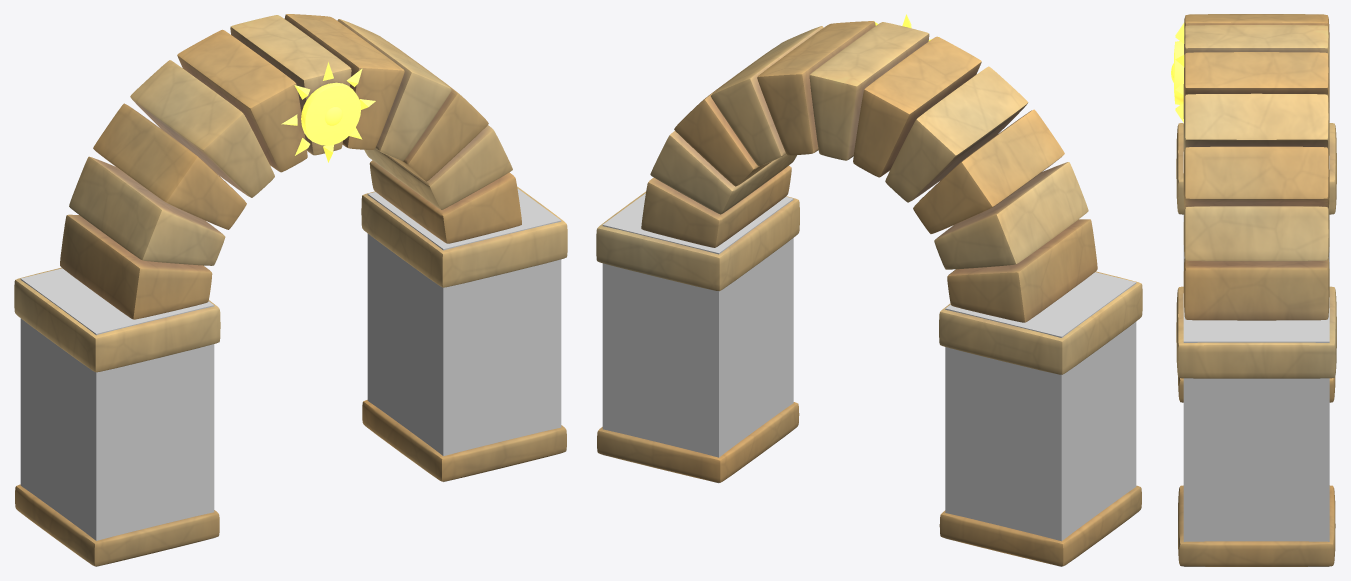
The model's file is SD_P05_SunArch.fbx.
3 views of the same model, side by side, from view 1: azimuth 30°, elevation 25°; view 2: azimuth 150°, elevation 25°; view 3: azimuth 270°, elevation 25° (orthographic). The views are drawn at different scales.
Parts seen in each view (by area): view 1: Arch_LOD0, COL_Pillar_L, COL_Pillar_R, Pillar_R_LOD0, Pillar_L_LOD0, Emblem; view 2: Arch_LOD0, COL_Pillar_L, COL_Pillar_R, Pillar_R_LOD0, Pillar_L_LOD0; view 3: Arch_LOD0, COL_Pillar_R, Pillar_R_LOD0, Pillar_L_LOD0, Emblem.
Boxes of the visible parts, x1,y1,x2,y2 form: Arch_LOD0: (60, 14, 521, 319); COL_Pillar_L: (20, 268, 214, 566); COL_Pillar_R: (367, 189, 561, 482); Pillar_R_LOD0: (361, 187, 567, 481); Pillar_L_LOD0: (14, 267, 220, 566); Emblem: (281, 62, 375, 162); Arch_LOD0: (641, 21, 1097, 322); COL_Pillar_L: (945, 272, 1136, 566); COL_Pillar_R: (602, 193, 793, 483); Pillar_R_LOD0: (596, 191, 799, 482); Pillar_L_LOD0: (939, 271, 1142, 566); Arch_LOD0: (1183, 14, 1329, 320); COL_Pillar_R: (1183, 293, 1329, 566); Pillar_R_LOD0: (1176, 286, 1336, 566); Pillar_L_LOD0: (1176, 123, 1336, 402); Emblem: (1171, 22, 1184, 122).
Size of what is drawn, in the model's own units: 3.63 by 3.27 by 1.14.
